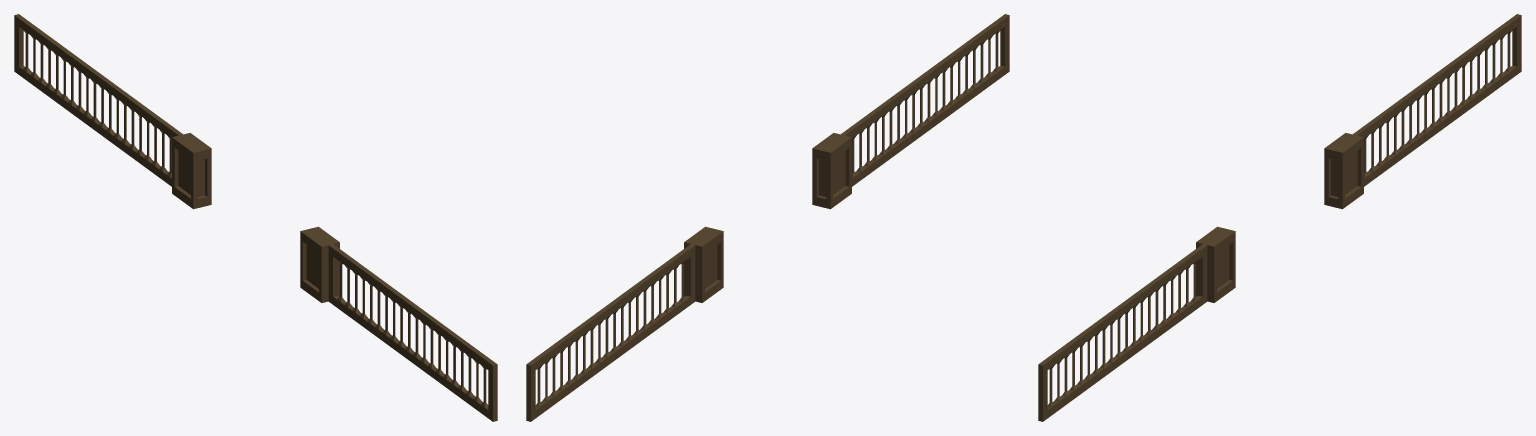
Rendered from Fence.fbx.
The picture shows the model from 3 angles, left to right: view 1: azimuth 30°, elevation 25°; view 2: azimuth 150°, elevation 25°; view 3: azimuth 330°, elevation 25°; orthographic projection.
Visible parts, largest first — view 1: Fence; view 2: Fence; view 3: Fence.
Boxes of the visible parts, box(x1,y1,x2,y2) form: Fence: box(14, 14, 497, 421); Fence: box(526, 14, 1009, 421); Fence: box(1038, 14, 1521, 421).
Bounding box in the file's own units: 49.5 × 146 × 2239.
